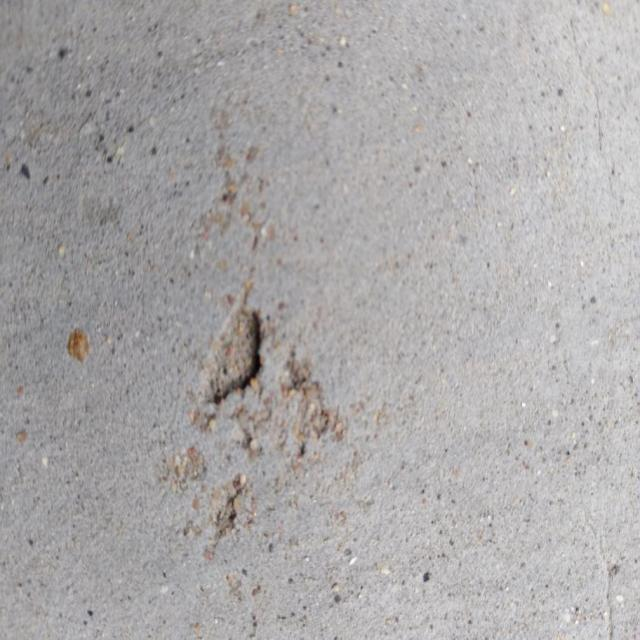concrete spalling: (204, 306, 264, 404)
